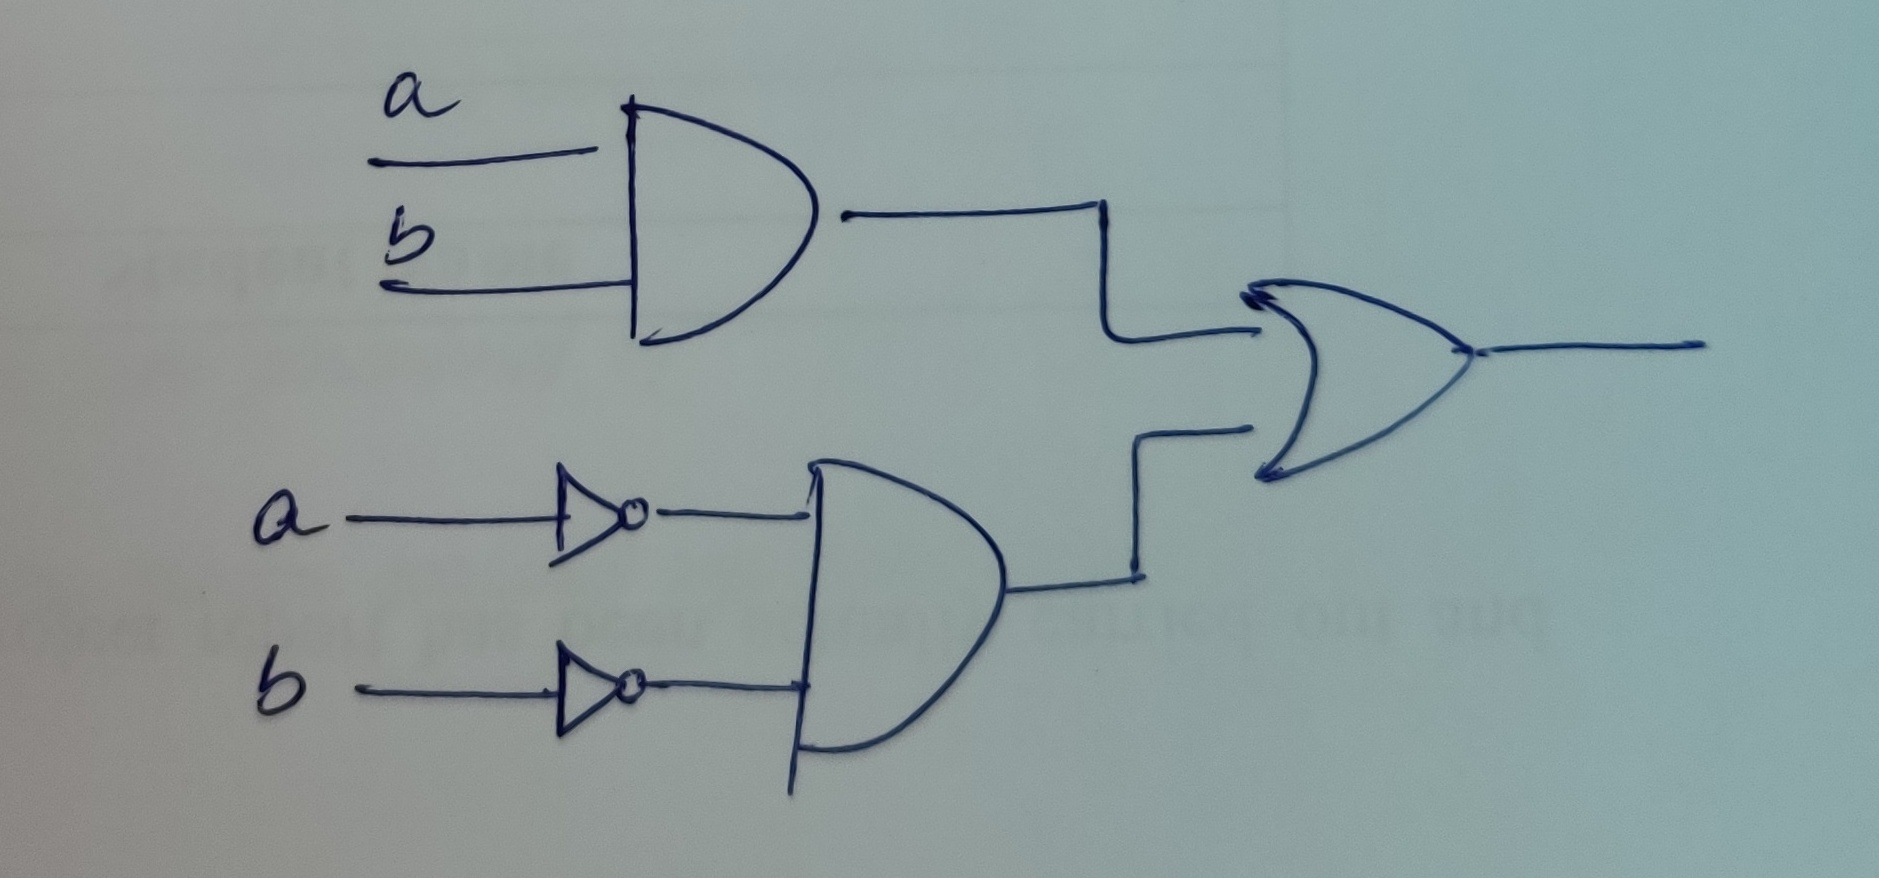and: (742, 426, 1065, 801), (558, 54, 860, 379)
not: (516, 603, 685, 773), (519, 446, 679, 582)
or: (1214, 217, 1519, 520)
